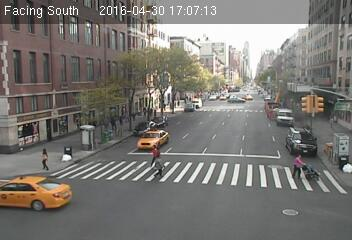neg: (307, 41, 324, 64), (74, 136, 90, 156), (327, 39, 341, 58), (198, 101, 211, 118), (167, 101, 179, 117), (248, 39, 260, 55), (98, 137, 109, 151), (129, 120, 140, 134), (153, 111, 164, 125), (61, 143, 69, 153), (230, 63, 237, 73), (297, 93, 304, 102)
pos: (288, 154, 307, 179), (150, 154, 168, 178), (35, 147, 52, 171), (108, 116, 118, 129), (102, 116, 111, 129)
